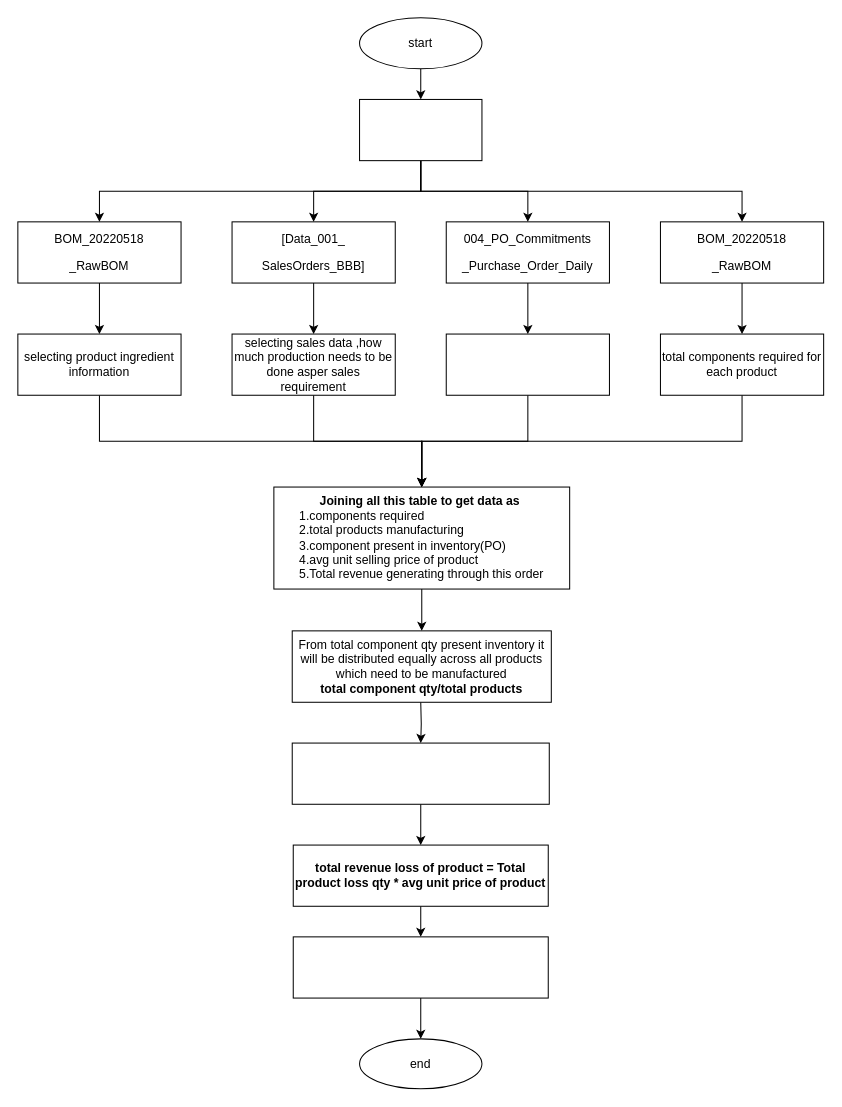
The diagram is 842 pixels wide and 1107 high, and some of its shapes have lost their labels. The centre of each missing label's shape, as x and y in pixels:
"overall revenue loss = sum(Total revenue loss of product)" belongs at (x=420, y=967).
"PO data , Total components in inventory" belongs at (x=527, y=364).
"Reading Data from DB" belongs at (x=420, y=129).
"total product loss qty = Total product qty manufactured - Total product order" belongs at (x=420, y=773).
